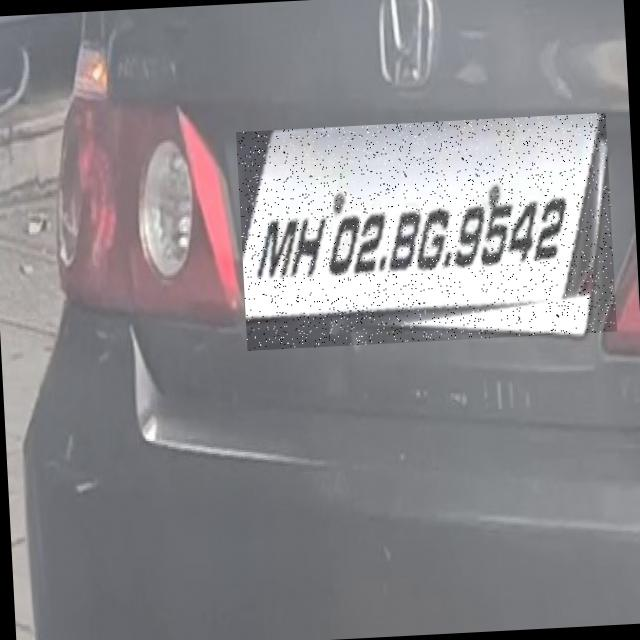Plate: (237, 114, 618, 352)
